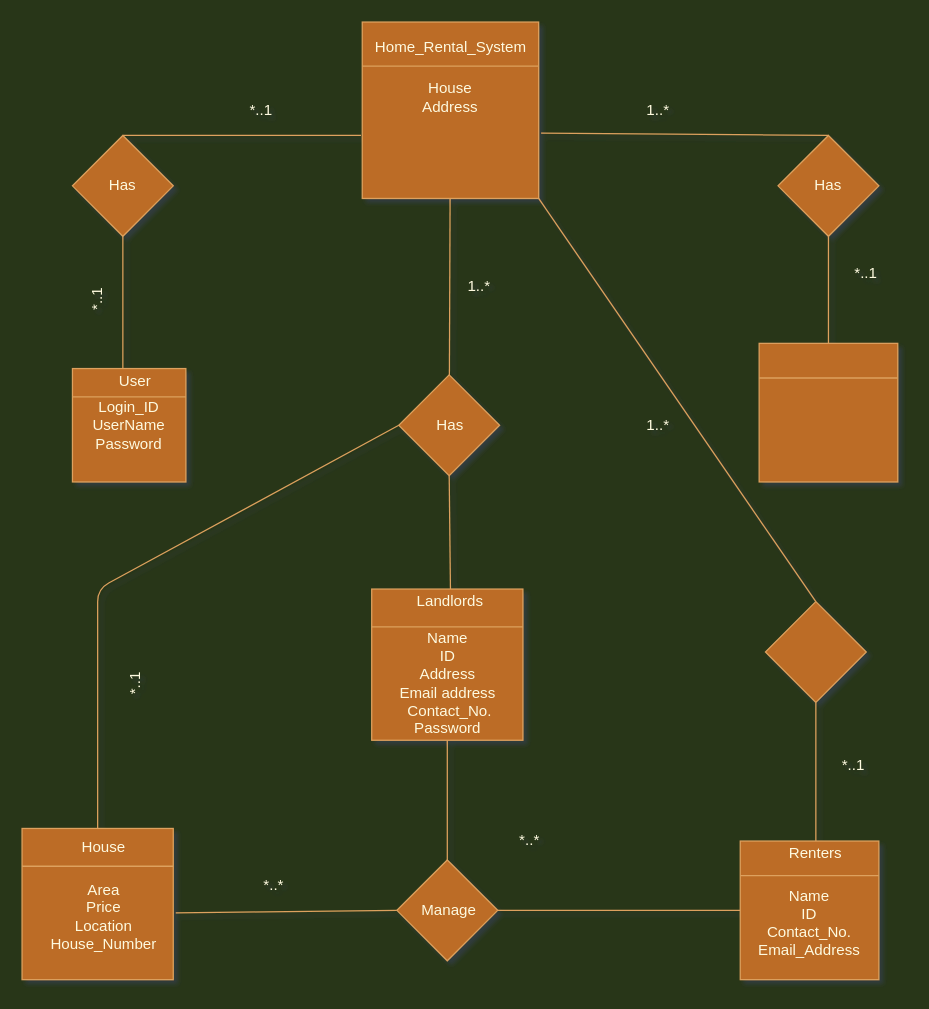
Some shapes in this 929 by 1009 pixel diagram are drawn without their labels. Each missing label, with the centre of its shape:
"Advertisement" goes at (x=828, y=412).
"Visit" goes at (x=815, y=651).
